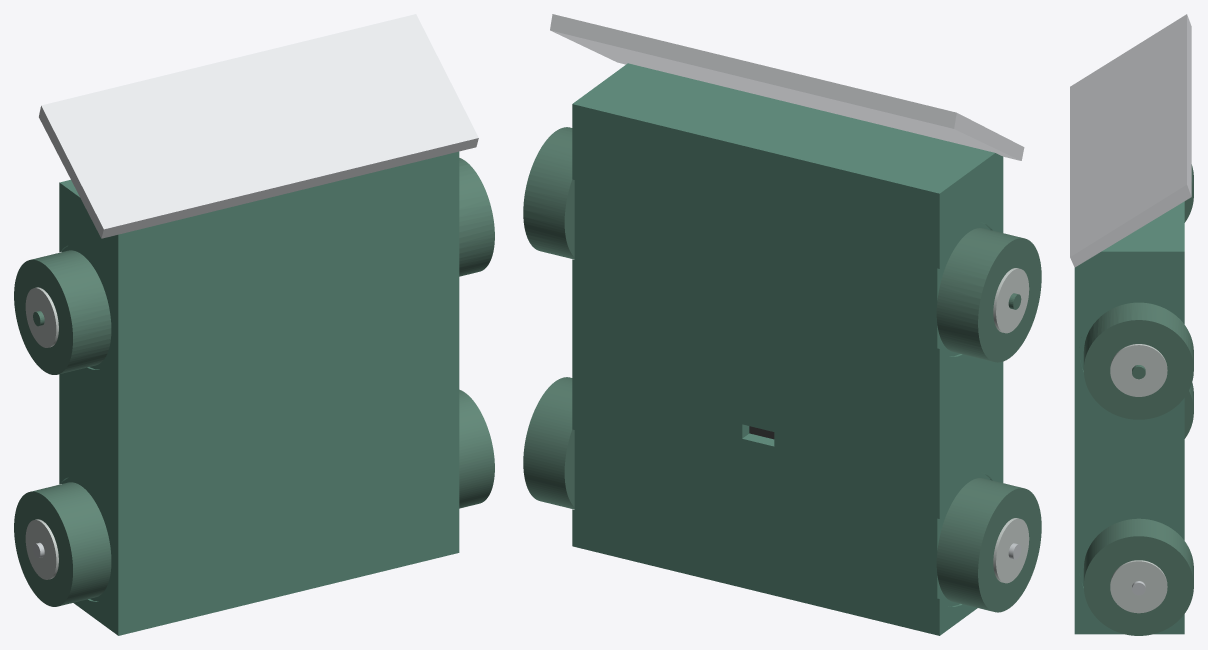
The model's file is i_never_asked_for_this.glb.
The picture shows the model from 3 angles, left to right: view 1: azimuth 30°, elevation 25°; view 2: azimuth 150°, elevation 25°; view 3: azimuth 270°, elevation 25°; orthographic projection. The views are drawn at different scales.
Parts seen in each view (by area): view 1: chassis, front_plate, wheel_r1, wheel_r0, wheel_l0, wheel_l1, dt_hub_wheel_r1, dt_hub_wheel_r0; view 2: chassis, front_plate, wheel_r1, wheel_r0, wheel_l0, wheel_l1, dt_hub_wheel_r0, dt_hub_wheel_r1; view 3: chassis, front_plate, wheel_l1, wheel_l0, dt_hub_wheel_l0, dt_hub_wheel_l1, wheel_r0, wheel_r1.
Part boxes in pixels (x1=…): chassis: x1=59, y1=151, x2=459, y2=635; front_plate: x1=39, y1=14, x2=478, y2=238; wheel_r1: x1=14, y1=250, x2=111, y2=374; wheel_r0: x1=14, y1=482, x2=111, y2=606; wheel_l0: x1=459, y1=389, x2=494, y2=508; wheel_l1: x1=459, y1=158, x2=494, y2=276; dt_hub_wheel_r1: x1=25, y1=287, x2=58, y2=347; dt_hub_wheel_r0: x1=25, y1=519, x2=58, y2=579; chassis: x1=572, y1=63, x2=1003, y2=635; front_plate: x1=550, y1=14, x2=1024, y2=160; wheel_r1: x1=936, y1=228, x2=1041, y2=362; wheel_r0: x1=936, y1=478, x2=1041, y2=612; wheel_l0: x1=523, y1=377, x2=574, y2=509; wheel_l1: x1=523, y1=127, x2=574, y2=259; dt_hub_wheel_r0: x1=993, y1=518, x2=1029, y2=583; dt_hub_wheel_r1: x1=993, y1=268, x2=1029, y2=333; chassis: x1=1074, y1=201, x2=1184, y2=634; front_plate: x1=1070, y1=14, x2=1191, y2=267; wheel_l1: x1=1083, y1=302, x2=1193, y2=419; wheel_l0: x1=1083, y1=518, x2=1193, y2=635; dt_hub_wheel_l0: x1=1110, y1=560, x2=1167, y2=613; dt_hub_wheel_l1: x1=1110, y1=344, x2=1167, y2=396; wheel_r0: x1=1184, y1=382, x2=1193, y2=438; wheel_r1: x1=1184, y1=164, x2=1193, y2=222.
Bounding box in the file's own units: 102 × 110 × 27.
